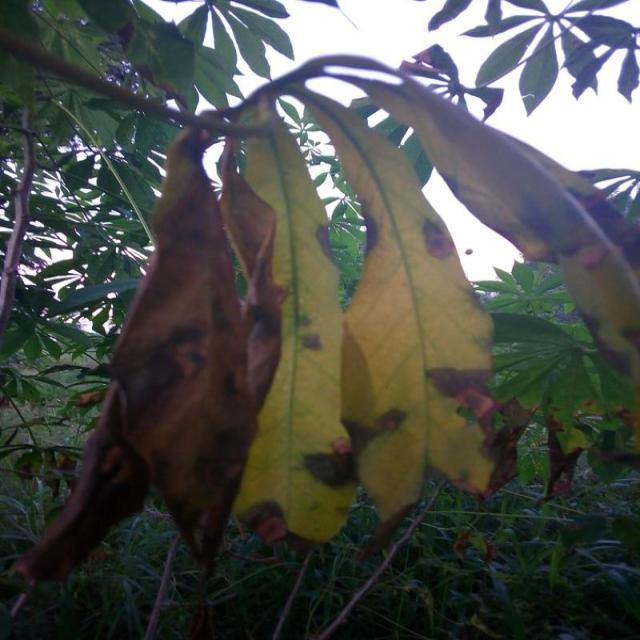cassava leaf: (293, 81, 504, 527), (222, 98, 360, 546)
